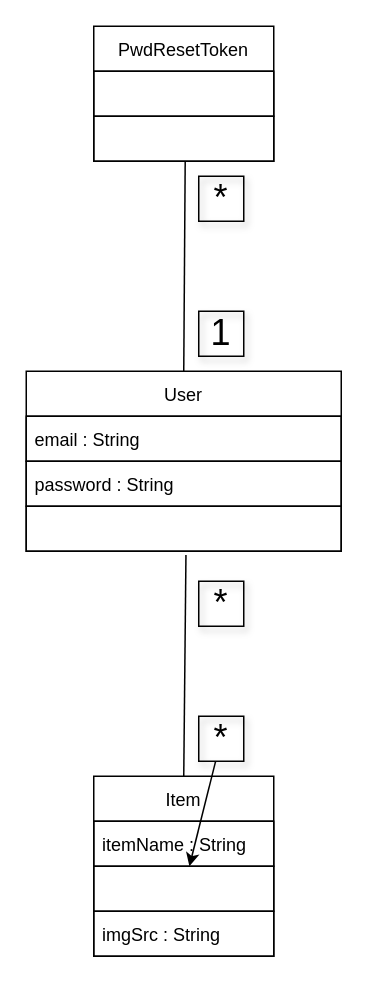
This 368x983 diagram has some shape labels left out. The shapes that lost their labels are listed below. From the top down, each one's centre as x and y in pixels, then its label:
At point 183,93: "userId : UUID".
At point 183,138: "token : UUID".
At point 183,528: "cart : Item[]".
At point 183,888: "itemPrice : Number".
